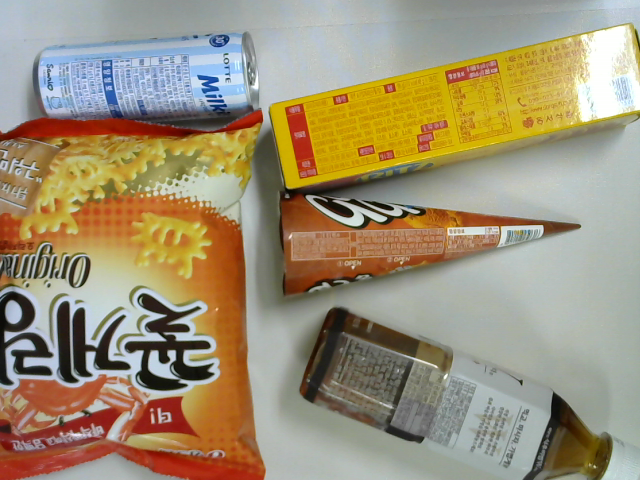Crabrang: (1, 109, 267, 480)
GooGoo_Cone_CVS: (280, 192, 585, 301)
Milkies_250ml: (33, 32, 257, 126)
Post-meal_recipe_W_tea_500ml: (298, 306, 640, 480)
Ritz_Sand_Cracker: (263, 23, 640, 192)
